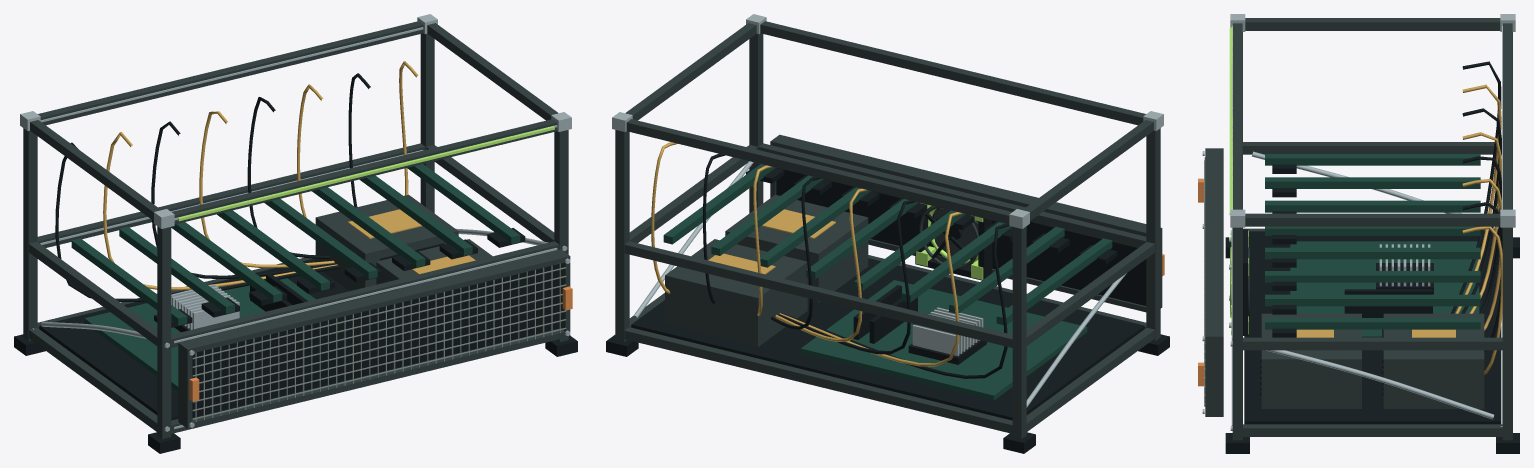
The model's file is rig-runtime-8-carbon-none.glb.
3 renders of one model, left to right at view 1: azimuth 30°, elevation 25°; view 2: azimuth 150°, elevation 25°; view 3: azimuth 270°, elevation 25°, orthographic.
Parts seen in each view (by area): view 1: Anodized graphite (×2), filter-carbon, Circuit board, Filter fibres, Rubber and ABS, Brushed aluminium, rig-runtime-8-carbon-none, Contacts, slot-cable-1, slot-cable-2, slot-cable-3, slot-cable-4 (+1 smaller); view 2: Anodized graphite (×3), Circuit board, Rubber and ABS (×2), filter-carbon, Brushed aluminium, Contacts, slot-cable-1, slot-cable-2, slot-cable-3, slot-cable-4, slot-cable-5, Lime accents (+2 smaller); view 3: Anodized graphite (×2), Circuit board, Rubber and ABS (×2), Brushed aluminium, slot-cable-1, Contacts, rig-runtime-8-carbon-none, slot-cable-2, slot-cable-3, slot-cable-4, slot-cable-8, slot-cable-5 (+3 smaller).
Boxes of the visible parts, <box> form: Anodized graphite (×2): <box>23,21,570,438</box>; filter-carbon: <box>192,264,560,417</box>; Circuit board: <box>71,164,520,391</box>; Filter fibres: <box>192,263,566,421</box>; Rubber and ABS: <box>14,228,577,453</box>; Brushed aluminium: <box>20,14,571,431</box>; rig-runtime-8-carbon-none: <box>177,126,554,221</box>; Contacts: <box>348,209,475,274</box>; slot-cable-1: <box>55,142,339,301</box>; slot-cable-2: <box>103,132,337,290</box>; slot-cable-3: <box>151,121,336,278</box>; slot-cable-4: <box>199,111,334,267</box>; Anodized graphite (×3): <box>615,21,1162,438</box>; Circuit board: <box>663,164,1112,400</box>; Rubber and ABS (×2): <box>606,163,1169,453</box>; filter-carbon: <box>776,168,1146,305</box>; Brushed aluminium: <box>612,14,1163,407</box>; Contacts: <box>708,209,835,274</box>; slot-cable-1: <box>781,223,1009,378</box>; slot-cable-2: <box>779,212,962,366</box>; slot-cable-3: <box>778,200,915,354</box>; slot-cable-4: <box>775,188,867,342</box>; slot-cable-5: <box>771,177,820,329</box>; Lime accents: <box>916,203,983,279</box>; Anodized graphite (×2): <box>1205,18,1512,440</box>; Circuit board: <box>1265,154,1480,337</box>; Rubber and ABS (×2): <box>1225,164,1519,453</box>; Brushed aluminium: <box>1230,14,1515,430</box>; slot-cable-1: <box>1451,61,1501,313</box>; Contacts: <box>1296,329,1455,337</box>; rig-runtime-8-carbon-none: <box>1229,27,1232,214</box>; slot-cable-2: <box>1455,84,1501,313</box>; slot-cable-3: <box>1461,108,1501,313</box>; slot-cable-4: <box>1462,132,1501,313</box>; slot-cable-8: <box>1462,226,1502,374</box>; slot-cable-5: <box>1462,156,1501,313</box>.
Bounding box in the file's own units: 6.06 × 3.24 × 4.01.
